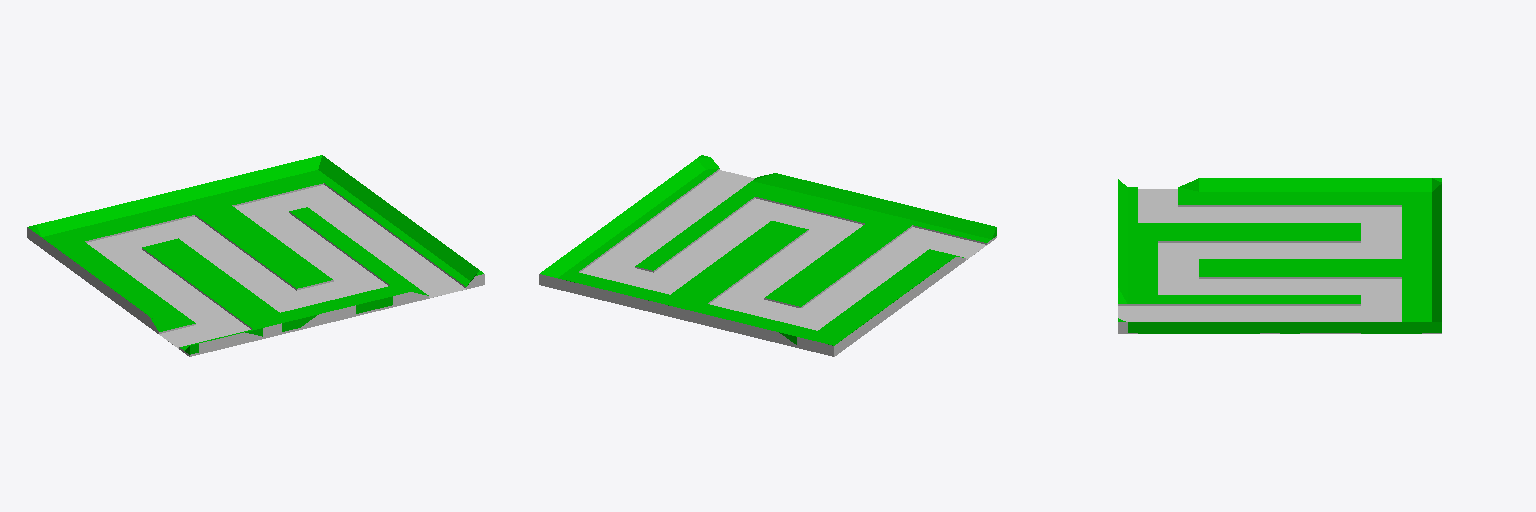
The model's file is LotsofBendsLevel.obj.
The picture shows the model from 3 angles: view 1: azimuth 30°, elevation 25°; view 2: azimuth 150°, elevation 25°; view 3: azimuth 270°, elevation 25°; orthographic projection.
Visible parts, largest first — view 1: Cube; view 2: Cube; view 3: Cube.
Boxes of the visible parts, x1,y1,x2,y2 form: Cube: [27, 155, 484, 356]; Cube: [539, 155, 996, 356]; Cube: [1118, 178, 1441, 333].
Bounding box in the file's own units: 30.69 × 1.12 × 29.25.